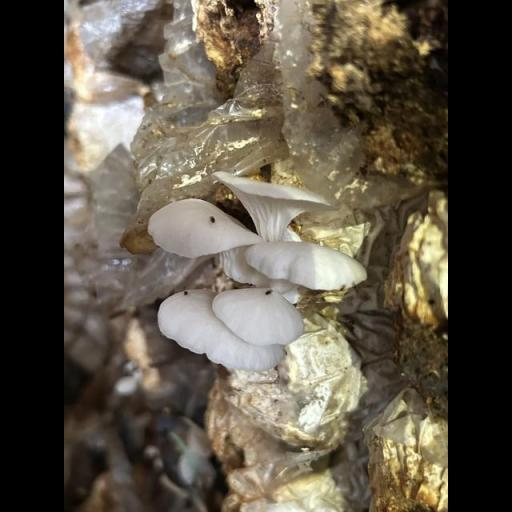White Oyster Mushroom: (150, 174, 364, 368)
